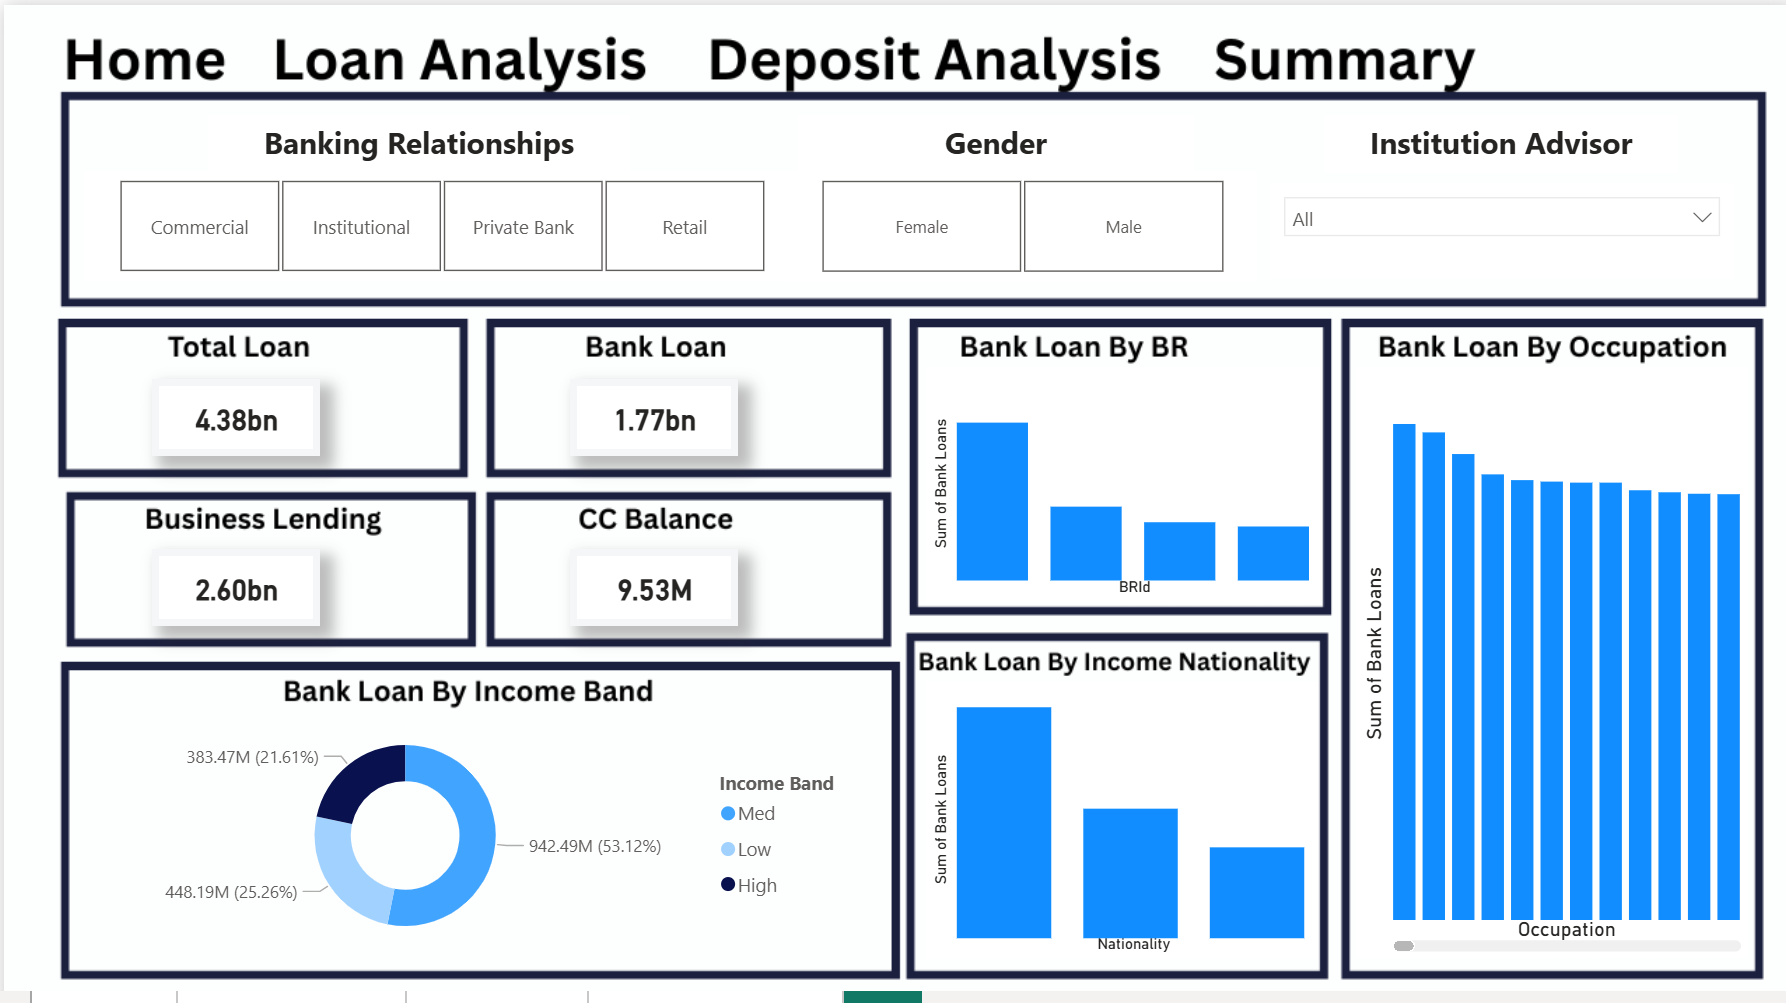

The page's visual inventory and layout, read from the dashboard file:
{"tool":"powerbi","page":{"name":"Loan Analysis","canvas":[1280,720],"ordinal":1},"visuals":[{"type":"actionButton","box":[42.5,20,122.5,40],"z":0},{"type":"actionButton","box":[498.8,20,343.8,40],"z":1000},{"type":"actionButton","box":[842.5,20,227.5,40],"z":2000},{"type":"cardVisual","fields":{"Data":["Banking_Clients.Total Loan"]},"box":[105,267.5,120,55],"z":3000},{"type":"cardVisual","fields":{"Data":["Sum(Banking_Clients.Bank Loans)"]},"box":[403.8,267.5,120,55],"z":4000},{"type":"cardVisual","fields":{"Data":["Banking_Clients.Total Business Lending"]},"box":[105,388.8,120,55],"z":5000},{"type":"cardVisual","fields":{"Data":["Sum(Banking_Clients.Credit Card Balance)"]},"box":[403.8,388.8,120,55],"z":6000},{"type":"donutChart","fields":{"Category":["Banking_Clients.Income Band"],"Y":["Sum(Banking_Clients.Bank Loans)"]},"box":[57.5,506.2,558.8,175],"z":7000},{"type":"clusteredColumnChart","fields":{"Category":["Banking_Clients.BRId"],"Y":["Sum(Banking_Clients.Bank Loans)"]},"box":[658.8,258.8,281.2,167.5],"z":8000},{"type":"clusteredColumnChart","fields":{"Y":["Sum(Banking_Clients.Bank Loans)"],"Category":["Banking_Clients.Nationality"]},"box":[658.8,482.5,280,198.8],"z":9000},{"type":"clusteredColumnChart","fields":{"Y":["Sum(Banking_Clients.Bank Loans)"],"Category":["Banking_Clients.Occupation"]},"box":[966.2,258.8,280,422.5],"z":10000},{"type":"slicer","fields":{"Values":["Banking_Clients.BRId"]},"box":[57.1,118.6,510,78.6],"z":11000},{"type":"slicer","fields":{"Values":["Banking_Clients.GenderId"]},"box":[542.9,118.6,372.9,78.6],"z":12000},{"type":"slicer","fields":{"Values":["Banking_Clients.IAId"]},"box":[904.3,127.1,331.4,68.6],"z":13000},{"type":"textbox","box":[145.7,78.6,301.4,41.4],"z":13001},{"type":"textbox","box":[567.1,78.6,282.9,41.4],"z":13002},{"type":"textbox","box":[942.9,78.6,252.9,41.4],"z":13003}]}

Visuals, with their boxes in screenshot pixels (x1, y1, x2, y2), scaled from the page's 1280x720 canvas onto the 1786x1003 screenshot:
actionButton: (left=59, top=28, right=230, bottom=84)
actionButton: (left=696, top=28, right=1176, bottom=84)
actionButton: (left=1176, top=28, right=1493, bottom=84)
cardVisual - Banking_Clients.Total Loan: (left=147, top=373, right=314, bottom=449)
cardVisual - Sum(Banking_Clients.Bank Loans): (left=563, top=373, right=731, bottom=449)
cardVisual - Banking_Clients.Total Business Lending: (left=147, top=542, right=314, bottom=618)
cardVisual - Sum(Banking_Clients.Credit Card Balance): (left=563, top=542, right=731, bottom=618)
donutChart - Banking_Clients.Income Band x Sum(Banking_Clients.Bank Loans): (left=80, top=705, right=860, bottom=949)
clusteredColumnChart - Banking_Clients.BRId x Sum(Banking_Clients.Bank Loans): (left=919, top=361, right=1312, bottom=594)
clusteredColumnChart - Sum(Banking_Clients.Bank Loans) x Banking_Clients.Nationality: (left=919, top=672, right=1310, bottom=949)
clusteredColumnChart - Sum(Banking_Clients.Bank Loans) x Banking_Clients.Occupation: (left=1348, top=361, right=1739, bottom=949)
slicer - Banking_Clients.BRId: (left=80, top=165, right=791, bottom=275)
slicer - Banking_Clients.GenderId: (left=758, top=165, right=1278, bottom=275)
slicer - Banking_Clients.IAId: (left=1262, top=177, right=1724, bottom=273)
textbox: (left=203, top=109, right=624, bottom=167)
textbox: (left=791, top=109, right=1186, bottom=167)
textbox: (left=1316, top=109, right=1669, bottom=167)
